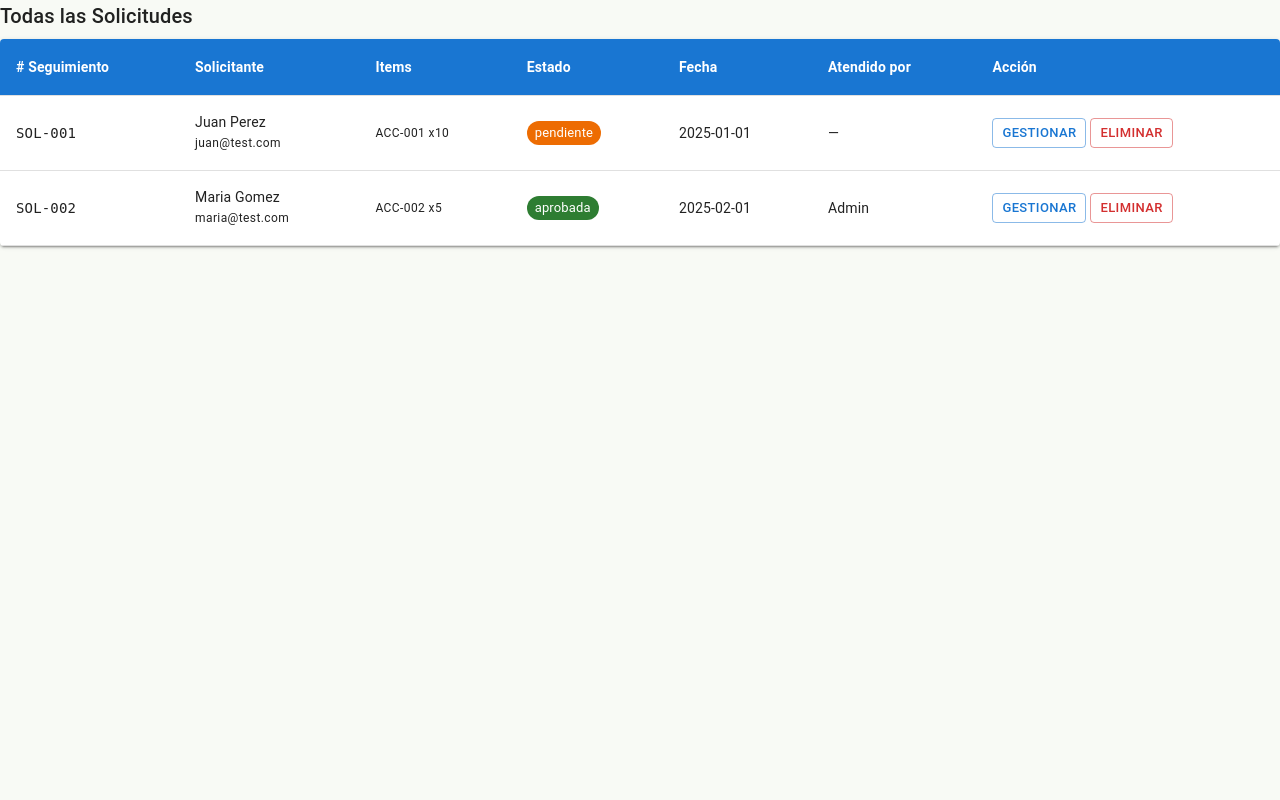
Scenario: SolicitudesTable › opens Gestionar dialog with tracking number in title
Click the button "Gestionar" in the row of "SOL-001" at coordinates (1039, 133), box [992,118,1086,148]
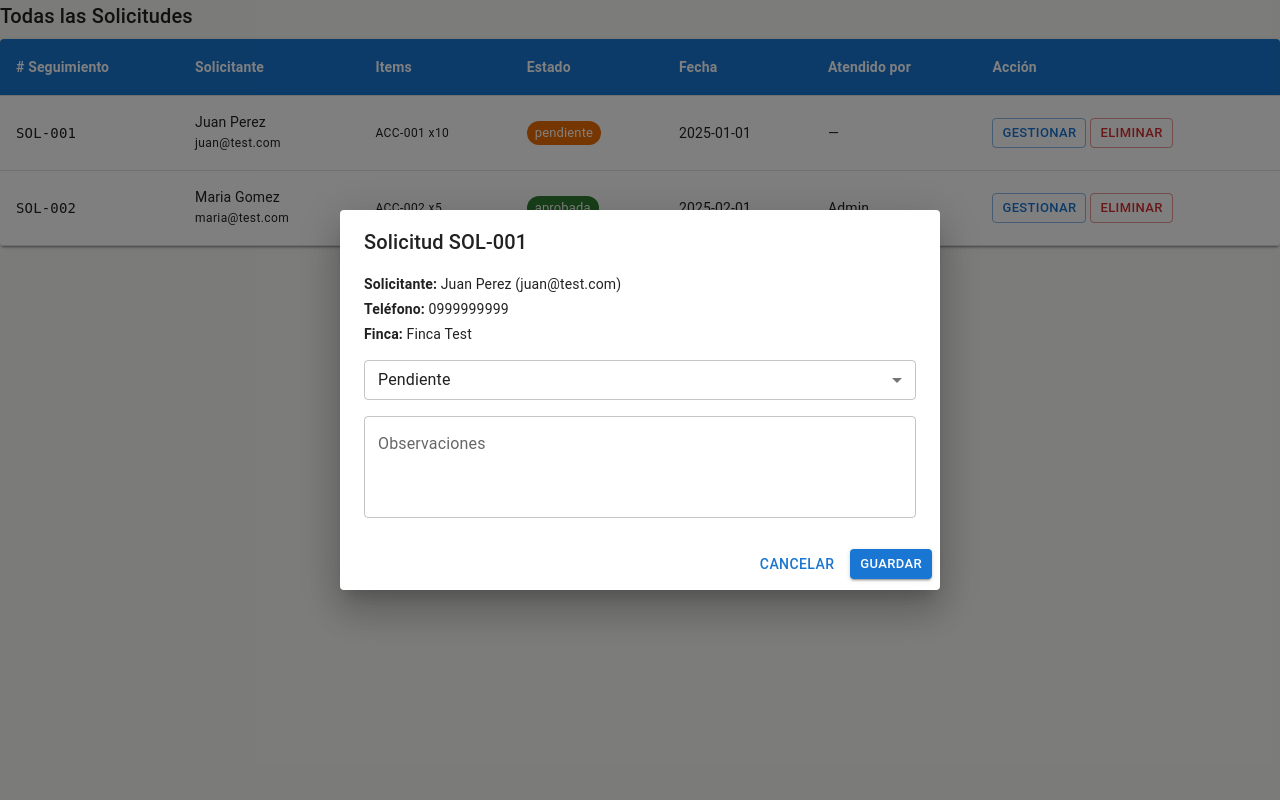
Now the heading "Solicitud SOL-001" is shown, box [364,230,527,254]
